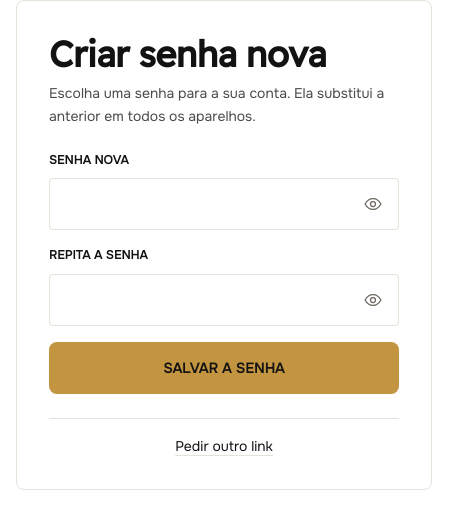
Scenario: a senha nova sai com o token da URL, e a tela manda entrar
The image size is (449, 507).
Type "senha-nova-bem-longa" into the password field labelled "Senha nova" at {"x": 224, "y": 204}, box [49, 178, 399, 230]
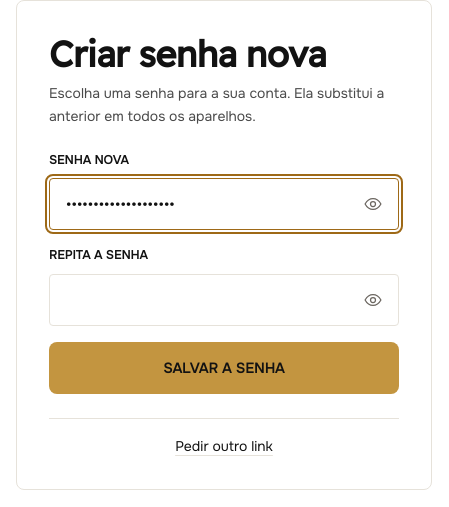
Type "senha-nova-bem-longa" into the password field labelled "Repita a senha" at {"x": 224, "y": 300}, box [49, 274, 399, 326]
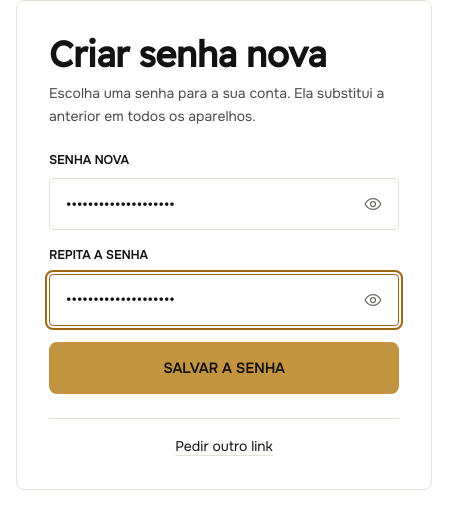
Click the button named "Salvar a senha" at {"x": 224, "y": 368}, box [49, 342, 399, 394]
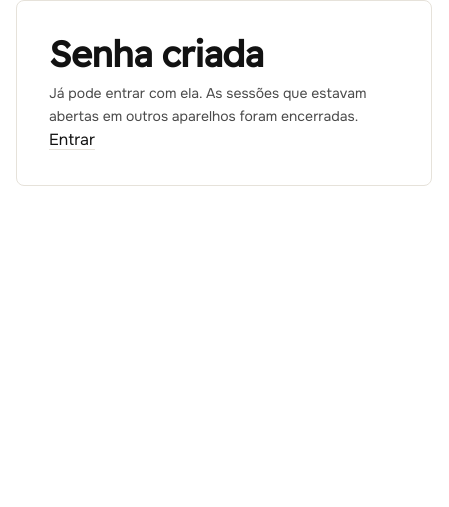
expect the heading "Senha criada" is shown: met, box [49, 31, 263, 76]
expect the link "Entrar" is shown: met, box [49, 129, 95, 150]
